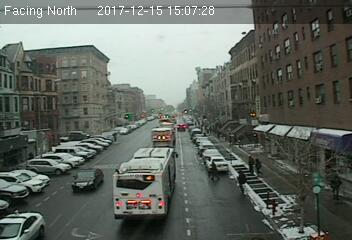bus: (113, 148, 178, 221)
car: (1, 212, 45, 240), (71, 168, 104, 189), (205, 157, 229, 173), (176, 123, 186, 131)
pedestrian: (236, 163, 251, 198), (246, 152, 255, 178)
truck: (151, 127, 173, 148)
